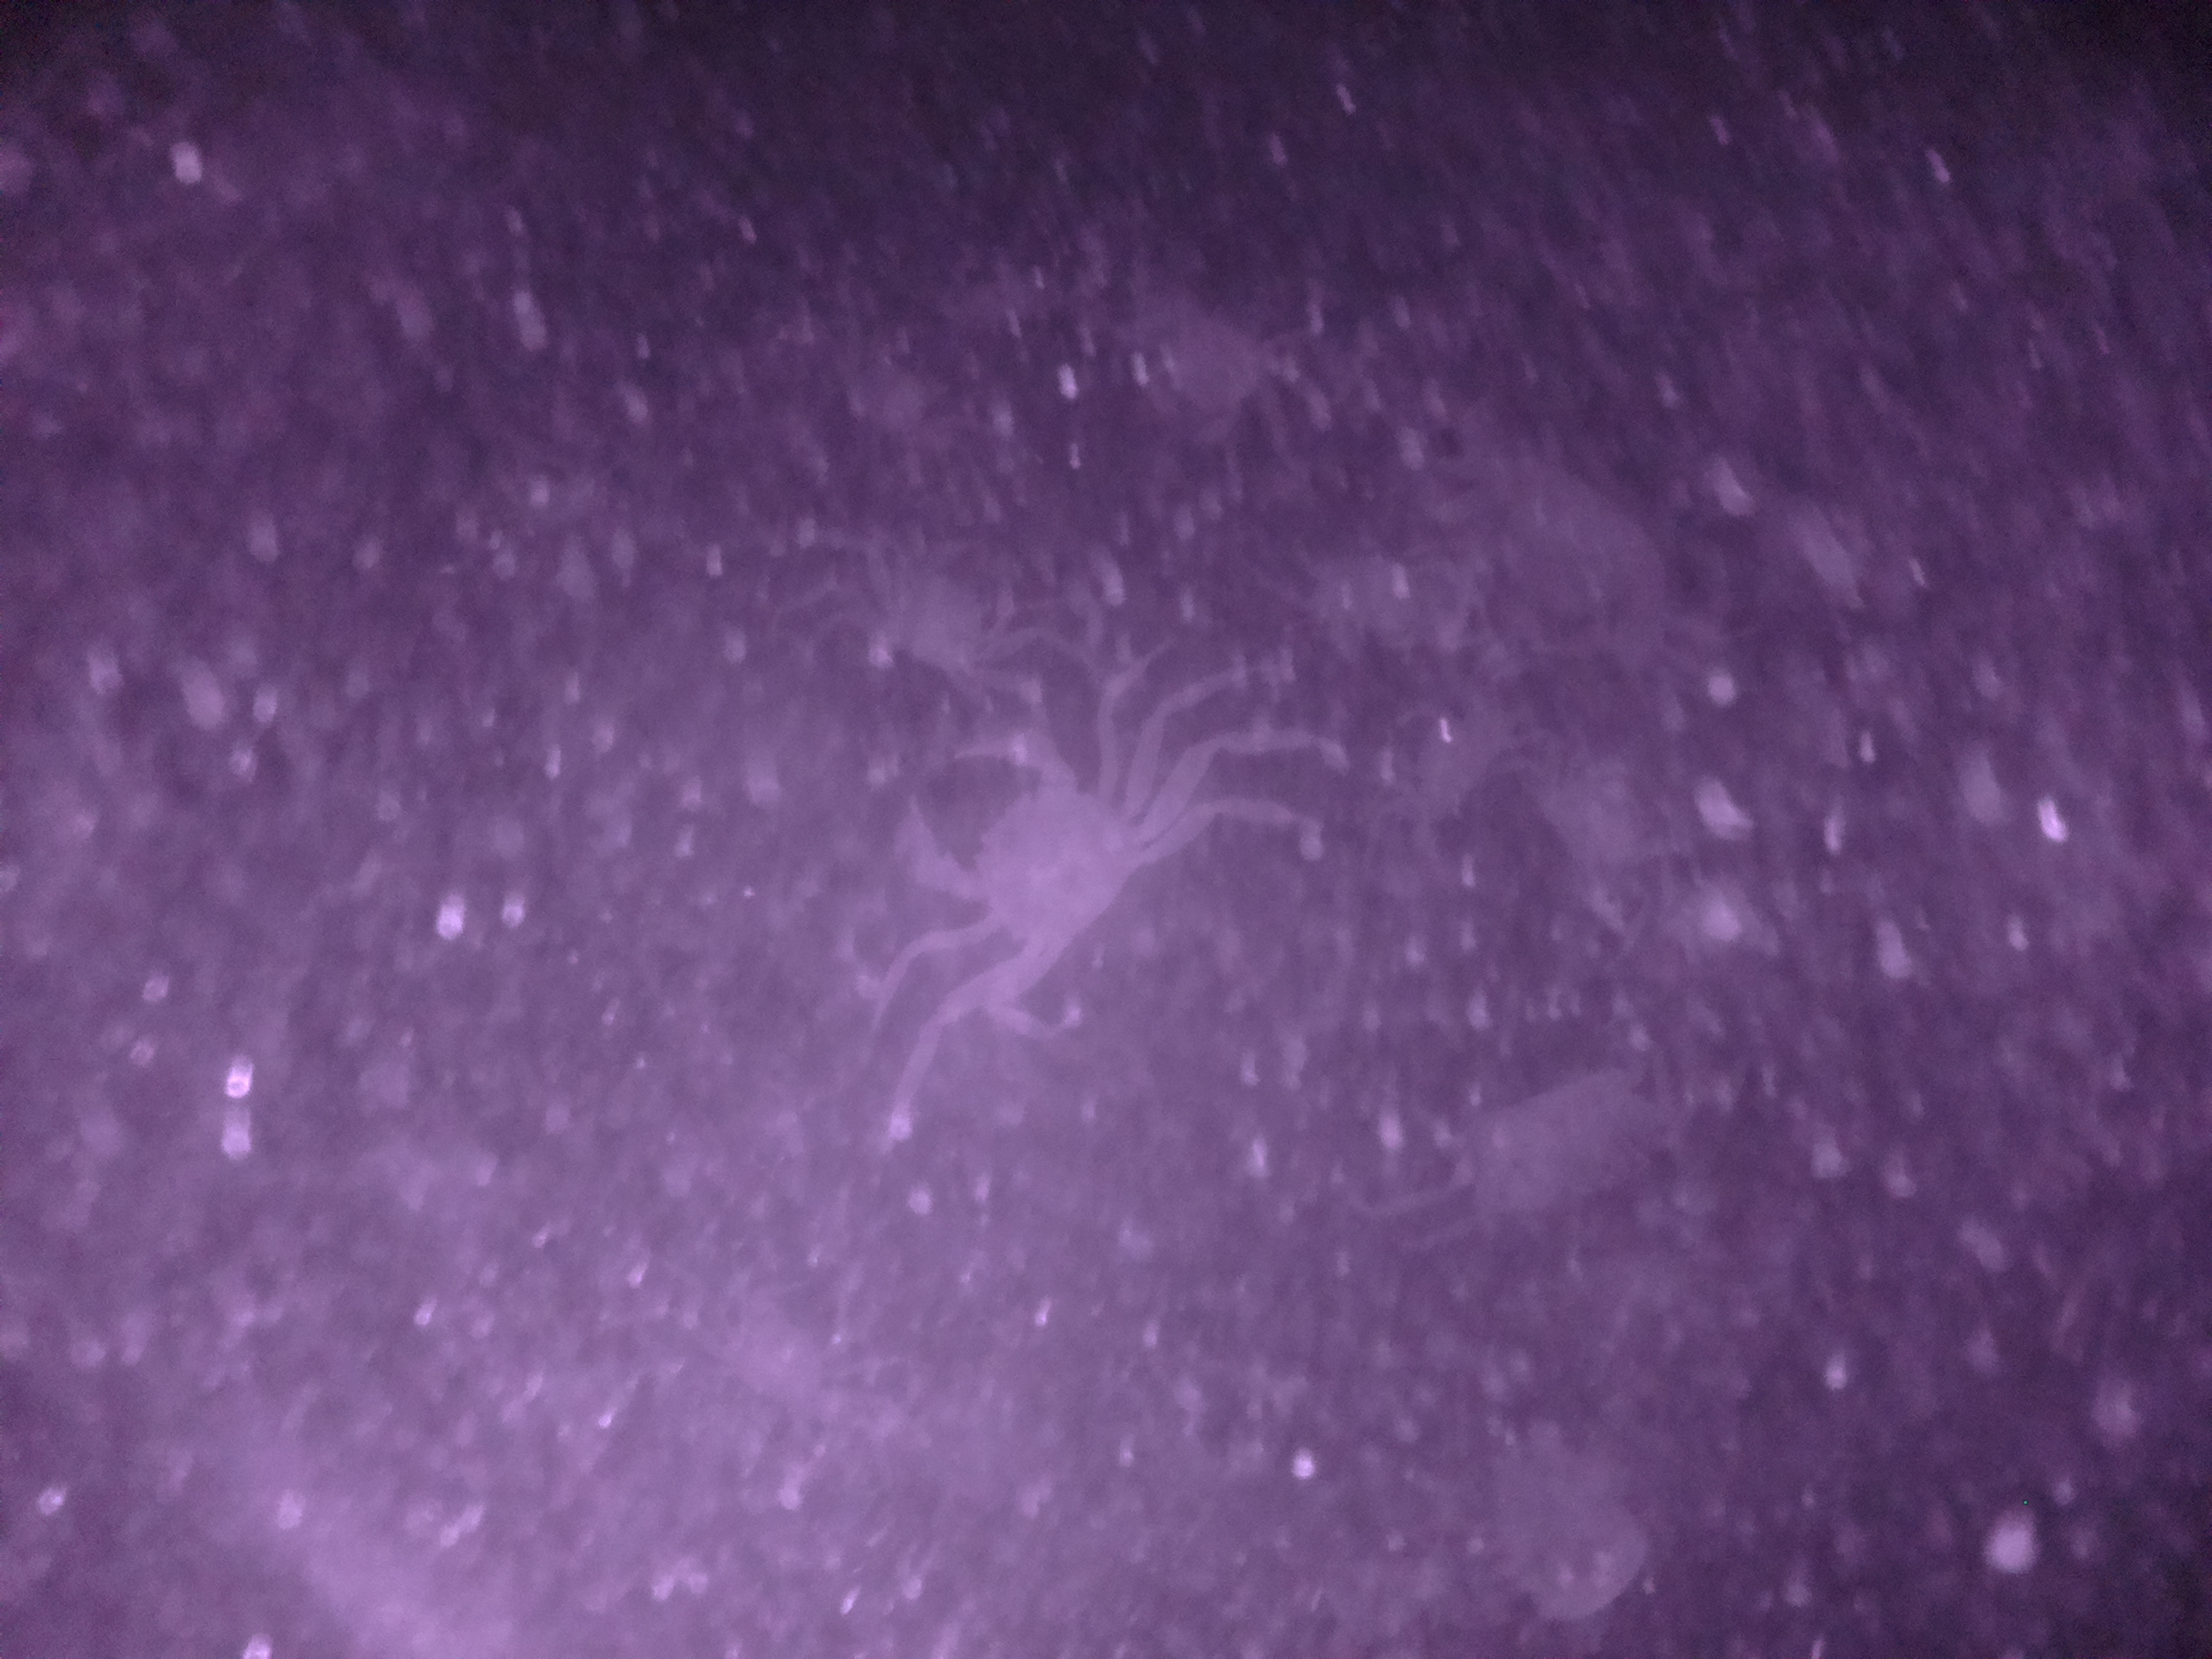Crab: (894, 711, 1169, 988)
